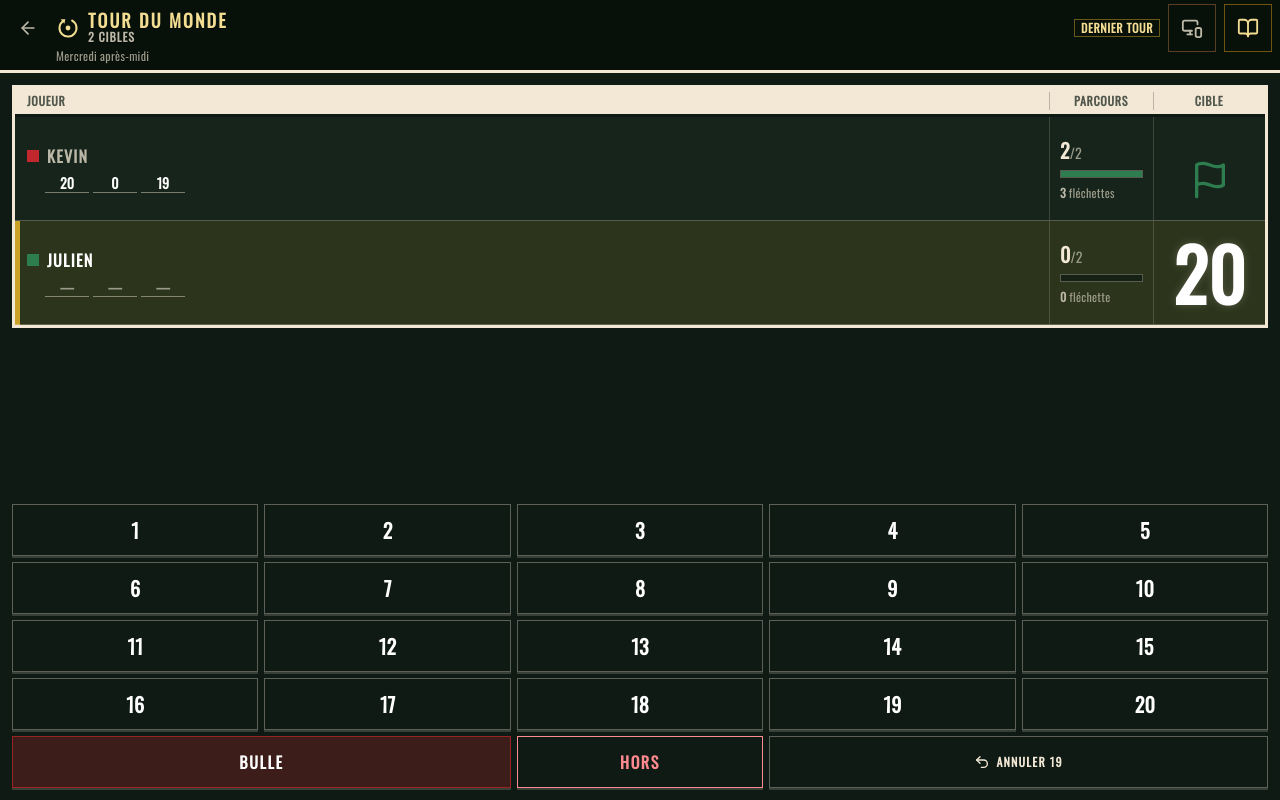
Test: Tour du monde : la phrase suit la fin de partie › le résumé affiche la phrase de la partie, la même que la voix
The width and height of the screenshot is (1280, 800).
Expected: the element named "Cible de Julien" is shown, [1173,242,1246,303]
Click the button "20" at (1145,704), box [1022,678,1268,730]
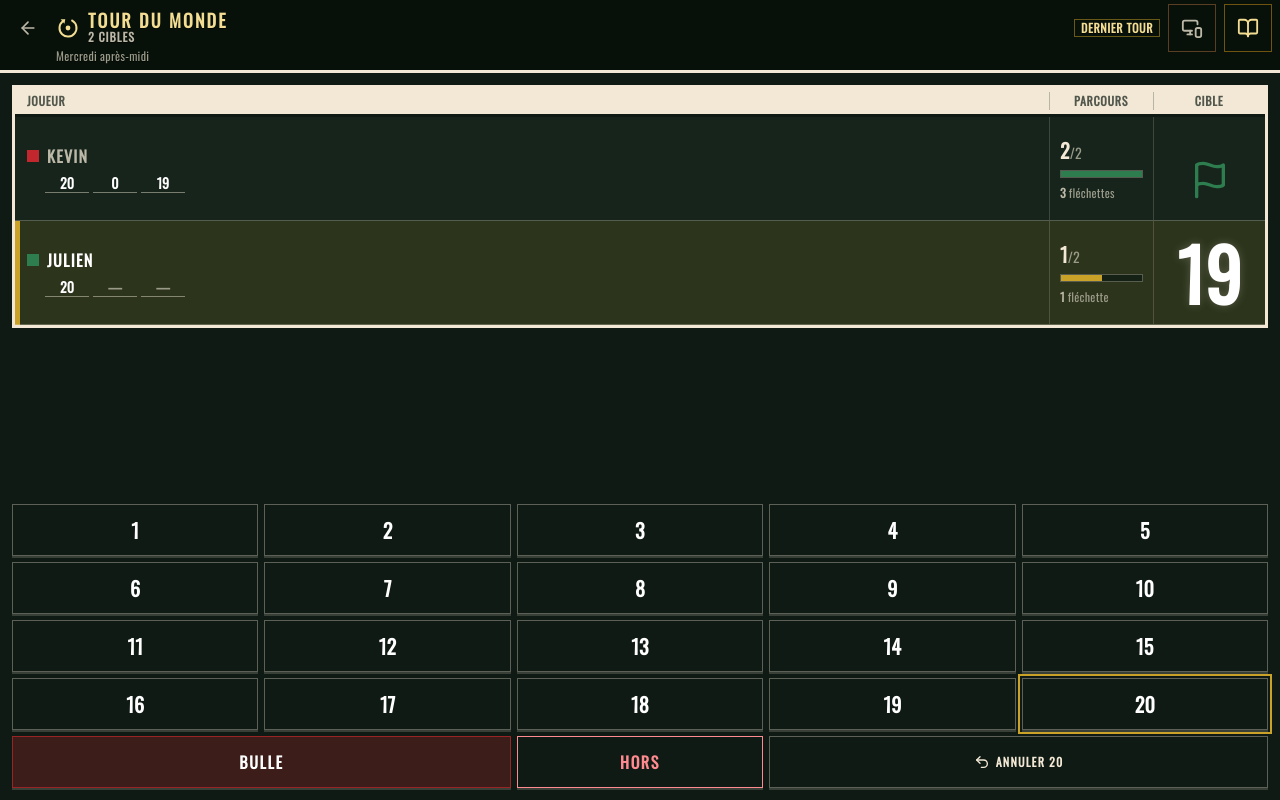
Click the button "19" at (892,704), box [769,678,1016,730]
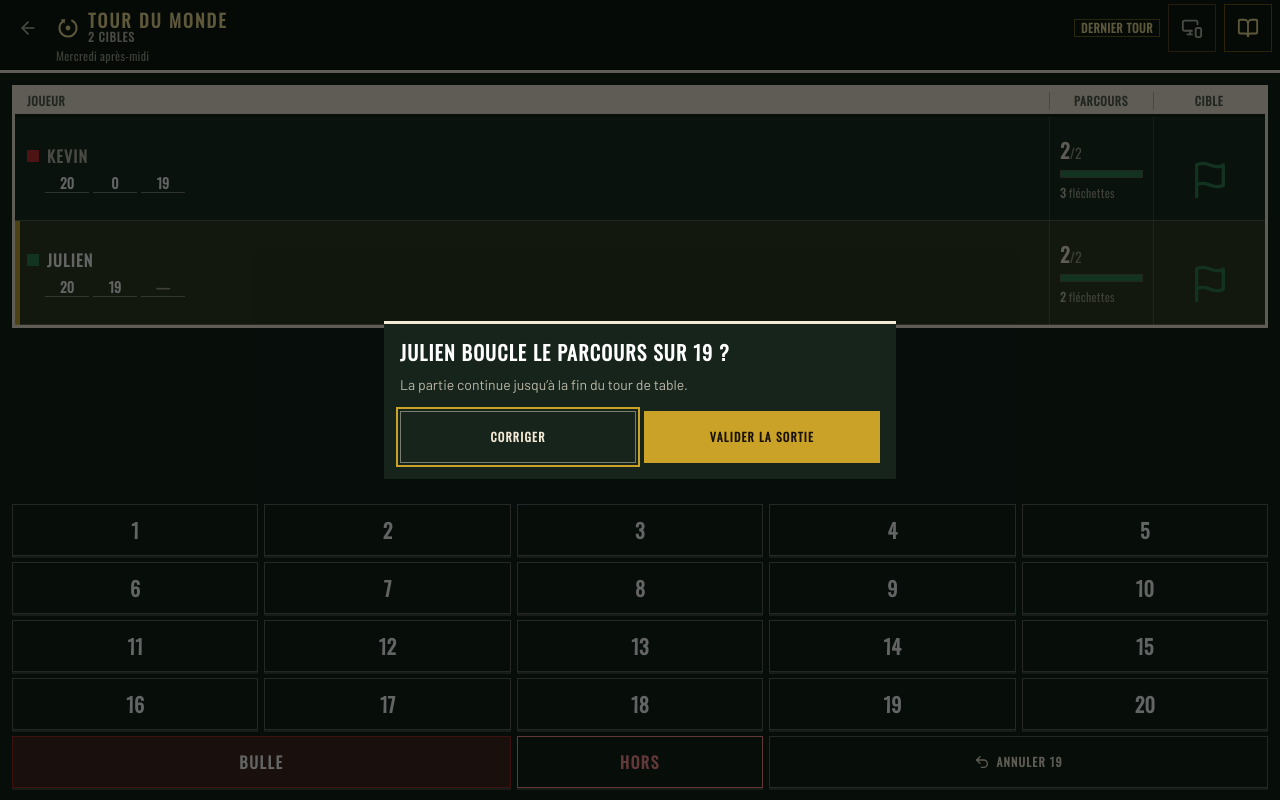
Click the button "Valider la sortie" at (762,437), box [644,411,880,463]
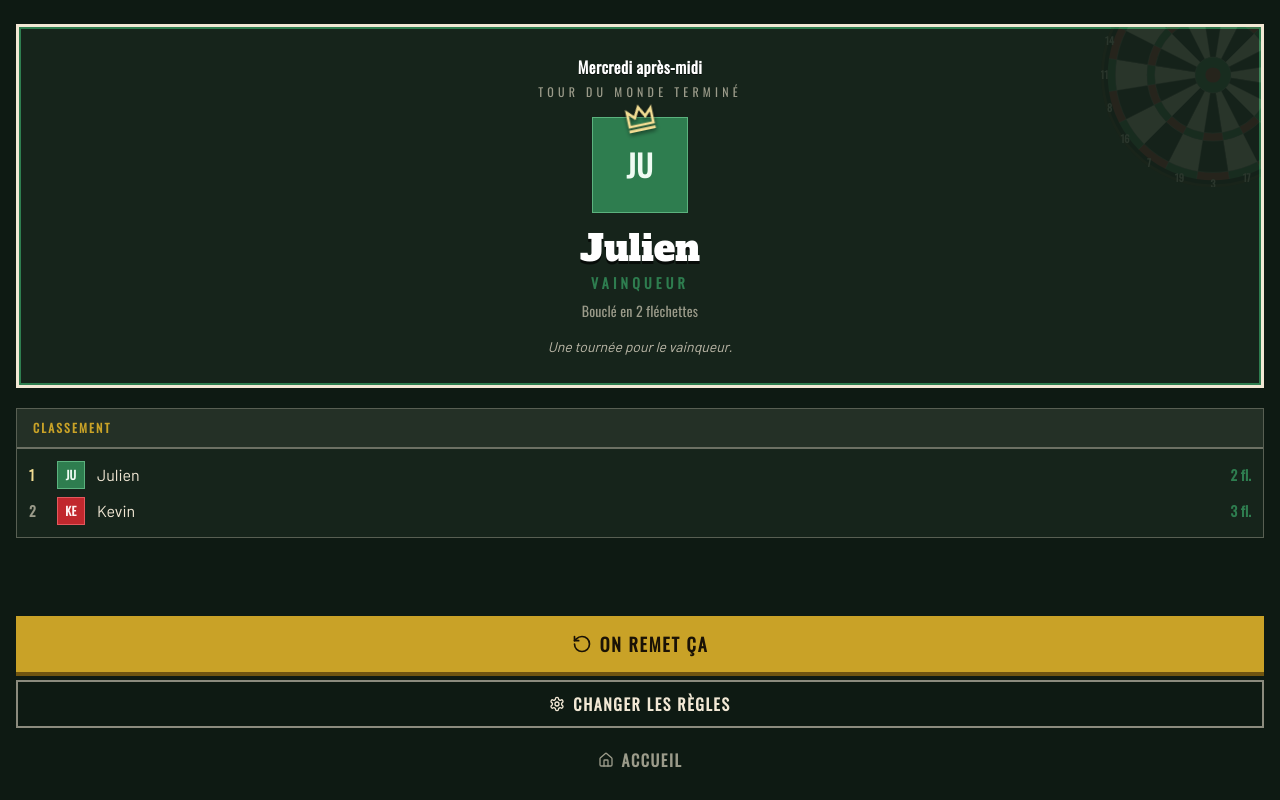
Now the text "Une tournée pour le vainqueur." is shown, box [548,337,732,357]
